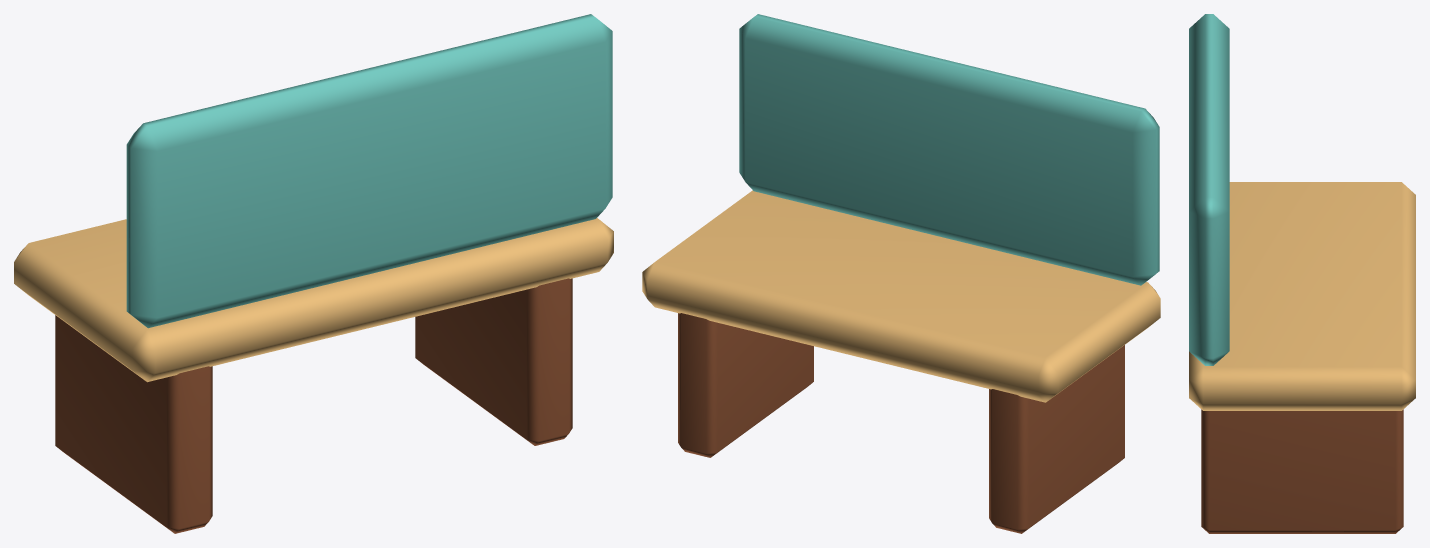
The model's file is bench.glb.
3 renders of one model, left to right at view 1: azimuth 30°, elevation 25°; view 2: azimuth 150°, elevation 25°; view 3: azimuth 270°, elevation 25°, orthographic. The views are drawn at different scales.
Visible parts, largest first — view 1: Back, Seat, Leg, Leg.001; view 2: Back, Seat, Leg, Leg.001; view 3: Seat, Leg.001, Back.
Boxes of the visible parts, box(x1,y1,x2,y2) form: Back: box(126, 14, 612, 328); Seat: box(14, 218, 613, 382); Leg: box(55, 315, 212, 533); Leg.001: box(415, 278, 572, 445); Back: box(739, 14, 1159, 285); Seat: box(642, 190, 1160, 402); Leg: box(989, 345, 1124, 533); Leg.001: box(678, 313, 813, 457); Seat: box(1189, 182, 1415, 410); Leg.001: box(1201, 409, 1403, 533); Back: box(1189, 14, 1229, 365).
Size of the model in its own units: 1.15 by 0.95 by 0.56.
